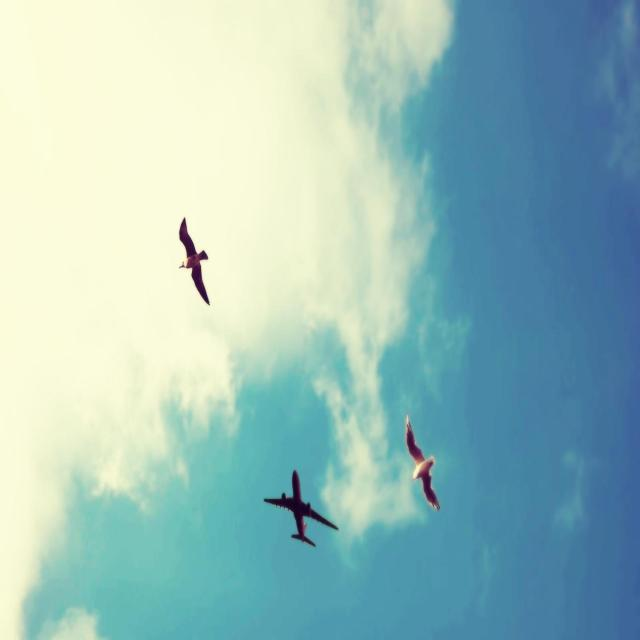airplane: (263, 469, 339, 547)
